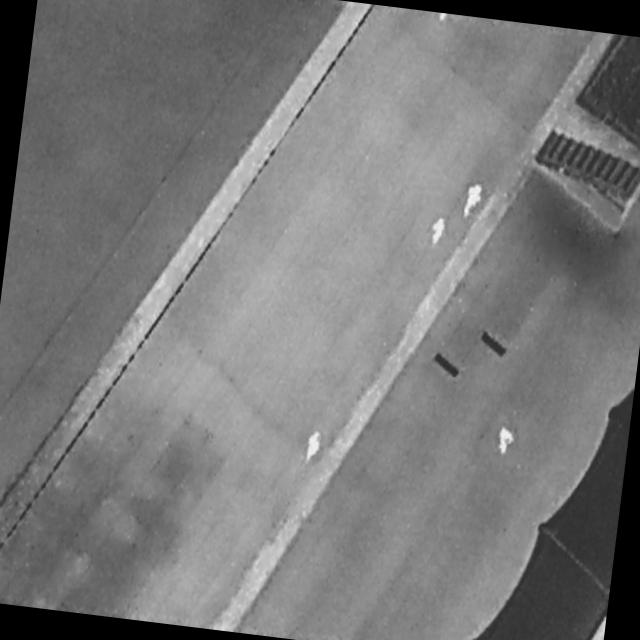person: (460, 178, 488, 224), (301, 426, 327, 467), (427, 214, 448, 251), (495, 425, 517, 457)
